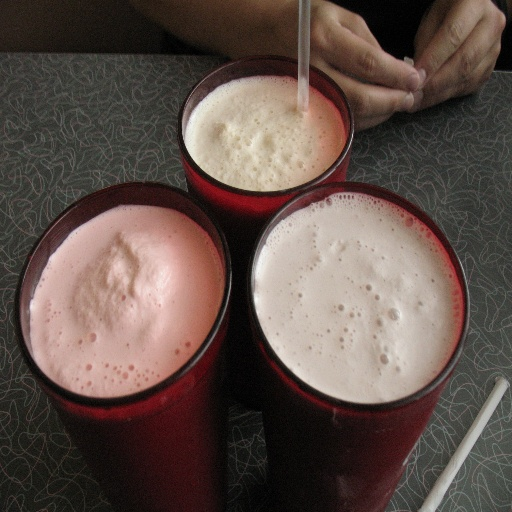hand: (231, 0, 420, 135), (382, 0, 512, 97)
